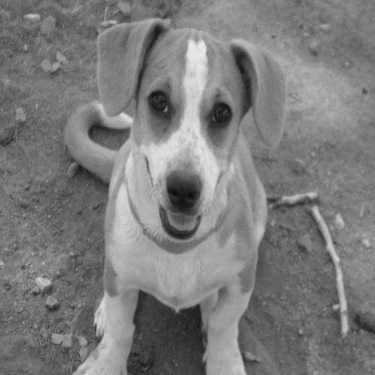dog: (50, 11, 290, 371)
